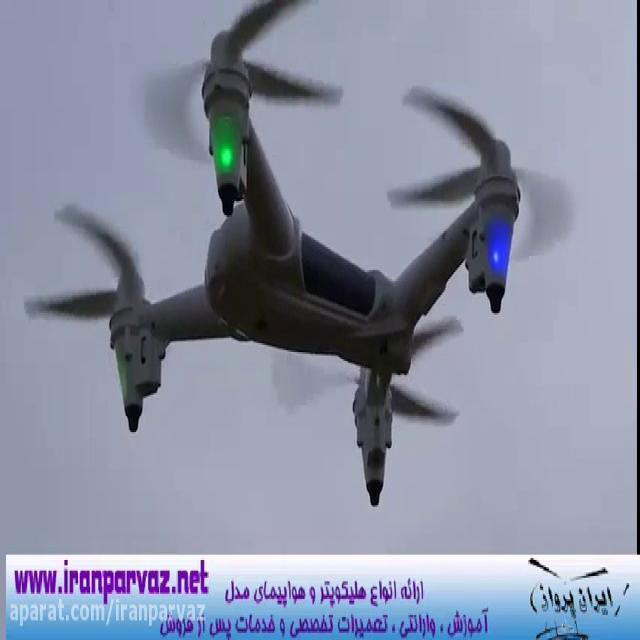drone: (22, 0, 581, 508)
